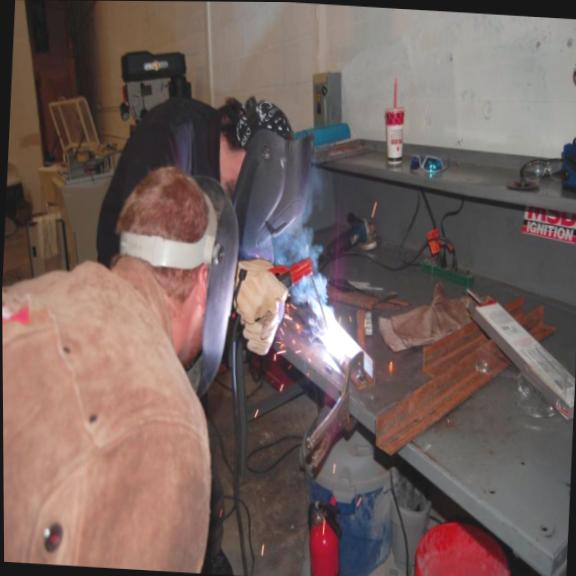no_safety_vest: (94, 81, 226, 294)
